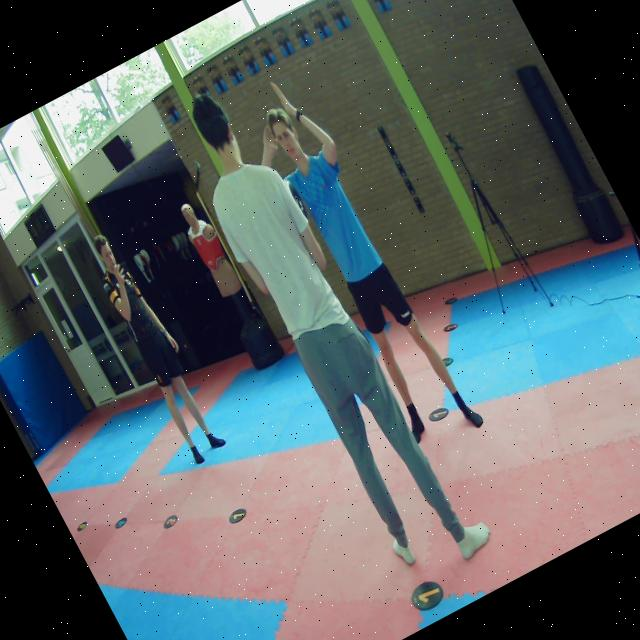paddle: (281, 177, 309, 222)
